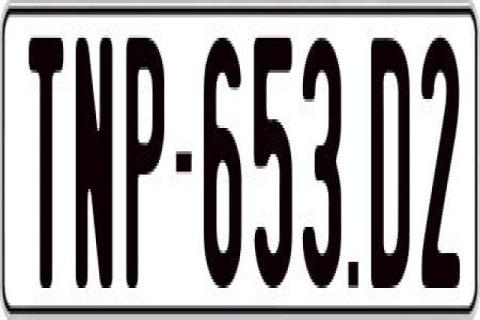0: (204, 35, 247, 291), (420, 29, 460, 297), (302, 29, 340, 285), (255, 32, 292, 285)
D: (371, 38, 414, 294)
N: (76, 32, 118, 300)
P: (123, 32, 162, 291)
T: (27, 29, 65, 285)
